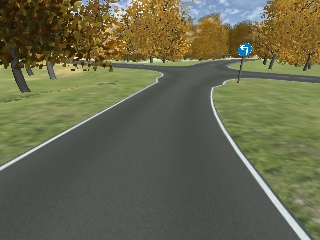left: (238, 43, 251, 58)
